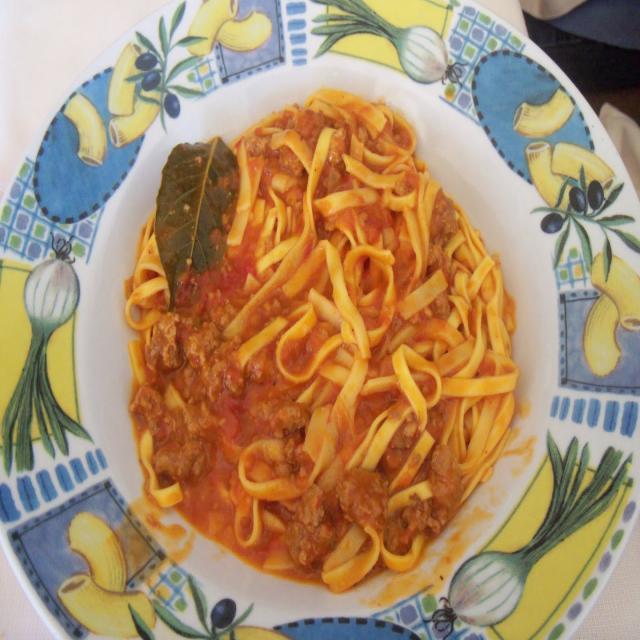Pasta al ragu: (99, 68, 563, 584)
